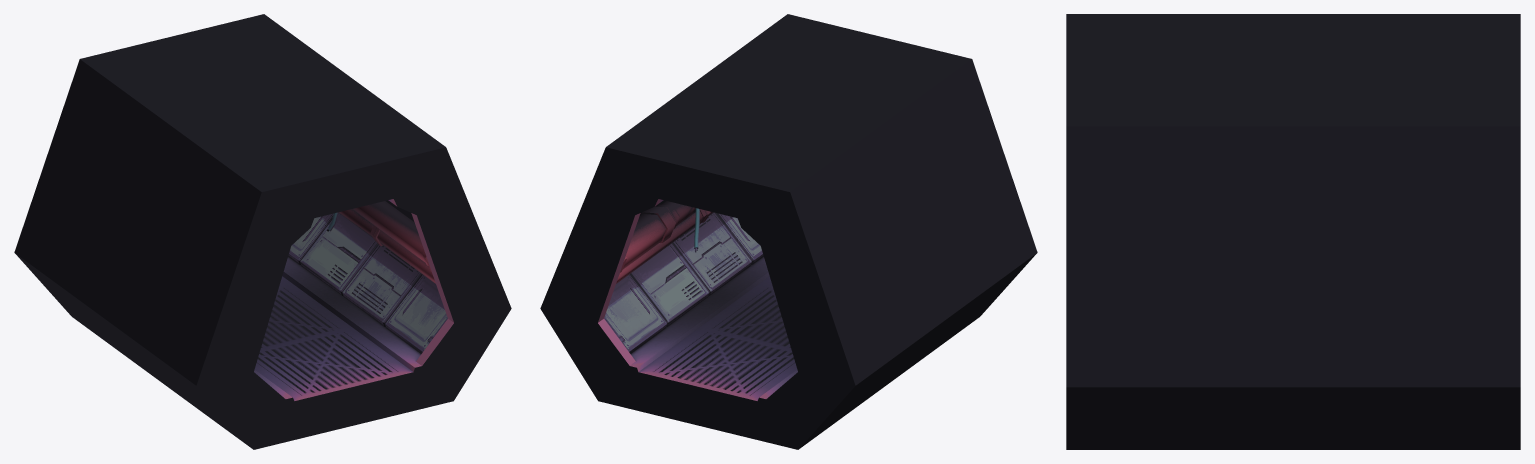
File: mod_Straight_2.glb
3 renders of one model, left to right at view 1: azimuth 30°, elevation 25°; view 2: azimuth 150°, elevation 25°; view 3: azimuth 270°, elevation 25°, orthographic. The views are drawn at different scales.
Visible parts, largest first — view 1: Plane.021; view 2: Plane.021; view 3: Plane.021.
Part boxes in pixels (x1,y1,x2,y2): Plane.021: [14, 14, 511, 449]; Plane.021: [540, 14, 1037, 449]; Plane.021: [1066, 14, 1520, 449].
Size of the model in its own units: 5 by 3.88 by 5.
Materials: 2 (2 with a texture image).
